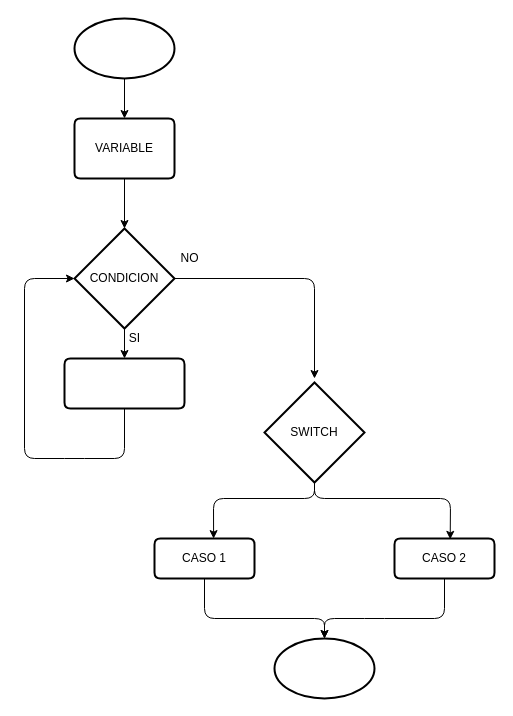
The diagram is 513 pixels wide and 716 high, and some of its shapes have lost their labels. The centre of each missing label's shape, as x and y in pixels:
ACCION POR VERDADERO: the point at 124,383
FIN: the point at 324,668
INICIO: the point at 124,48
